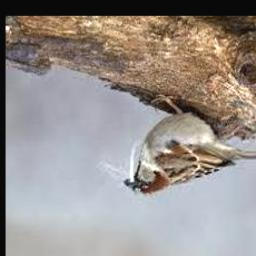Sparrow: (124, 95, 256, 198)
